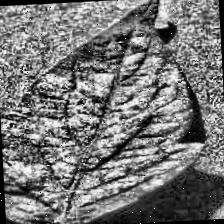spider mites: (0, 0, 205, 224)
